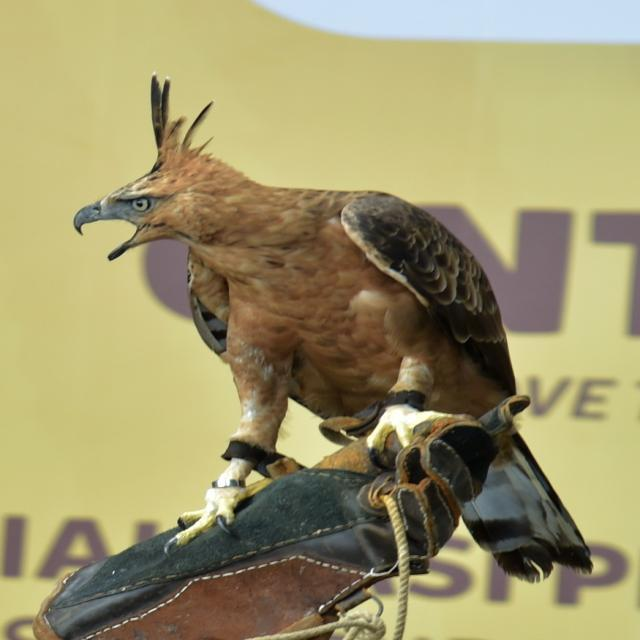Elang Jawa: (31, 63, 614, 589)
